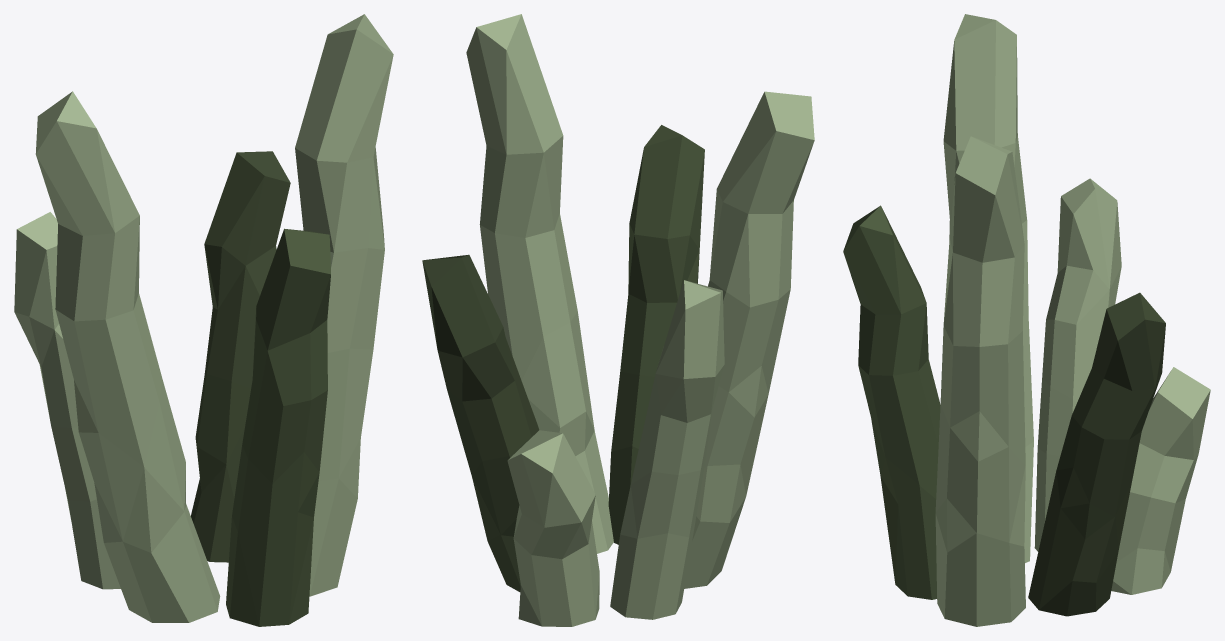
The model's file is EA_Swamp_Grass_03c.glb.
The picture shows the model from 3 angles, left to right: view 1: azimuth 30°, elevation 25°; view 2: azimuth 150°, elevation 25°; view 3: azimuth 270°, elevation 25°; orthographic projection. The views are drawn at different scales.
Visible parts, largest first — view 1: EA_Swamp_Grass_03c; view 2: EA_Swamp_Grass_03c; view 3: EA_Swamp_Grass_03c.
Part boxes in pixels (x1=…): EA_Swamp_Grass_03c: x1=14, y1=14, x2=393, y2=626; EA_Swamp_Grass_03c: x1=422, y1=14, x2=814, y2=626; EA_Swamp_Grass_03c: x1=843, y1=14, x2=1210, y2=626.
Bounding box in the file's own units: 0.745 × 1.07 × 0.7133.
Materials: 1 (1 with a texture image).
